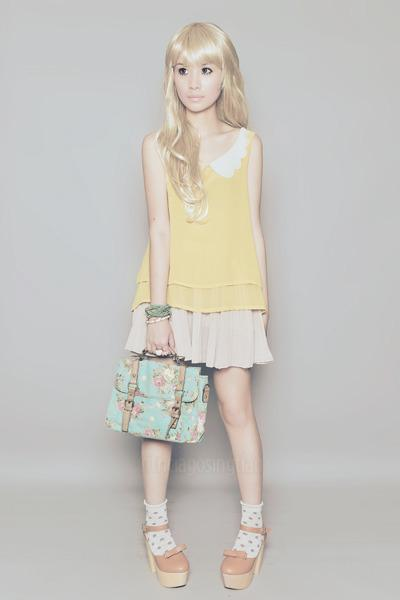bag: (103, 348, 208, 442)
shirt: (130, 127, 265, 315)
shoe: (161, 548, 263, 580)
skirt: (119, 306, 272, 368)
